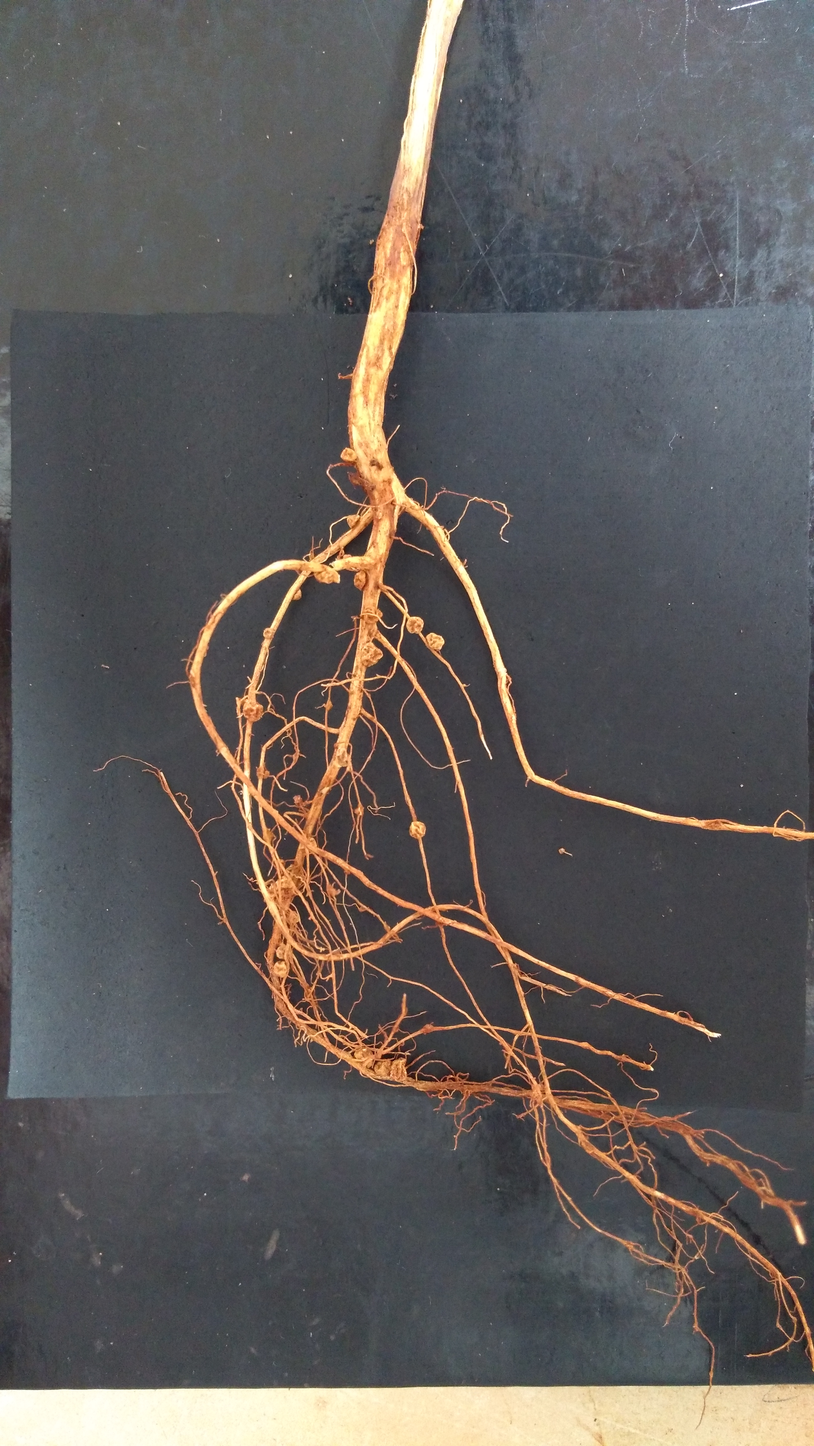nodule: (370, 455, 394, 491), (282, 863, 308, 889), (360, 641, 383, 667), (268, 875, 296, 894), (353, 1045, 375, 1069), (242, 698, 263, 722), (313, 567, 340, 584), (389, 1056, 407, 1081), (372, 1058, 393, 1078), (362, 603, 383, 623), (342, 553, 362, 572), (335, 746, 352, 768), (426, 632, 444, 652), (408, 820, 426, 839), (303, 986, 320, 1006), (406, 616, 424, 634), (273, 959, 290, 978), (353, 568, 367, 591), (375, 496, 389, 518), (301, 835, 317, 854), (340, 447, 358, 463), (346, 514, 362, 529), (275, 944, 291, 959), (325, 882, 340, 897), (255, 765, 270, 779), (262, 828, 275, 844), (349, 472, 363, 486), (286, 910, 301, 923), (292, 794, 304, 808), (420, 1023, 434, 1035), (262, 627, 275, 639), (274, 858, 286, 870), (291, 588, 302, 601), (319, 786, 332, 795), (353, 805, 364, 815), (325, 699, 334, 711), (557, 847, 566, 855), (333, 742, 340, 749), (344, 868, 351, 875)
